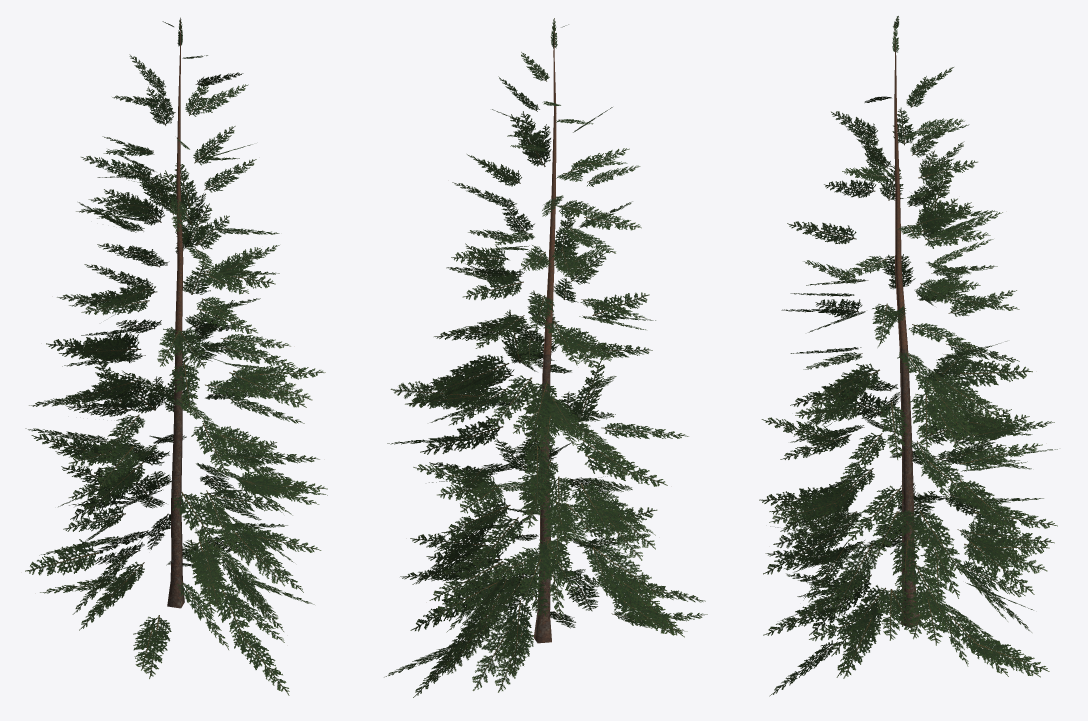
Rendered from spruce_c_LOD2.glb.
3 views of the same model, side by side, from view 1: azimuth 30°, elevation 25°; view 2: azimuth 150°, elevation 25°; view 3: azimuth 270°, elevation 25° (orthographic). The views are drawn at different scales.
Parts seen in each view (by area): view 1: Spruce_C_LOD2_Foliage, Spruce_C_LOD2_Bark; view 2: Spruce_C_LOD2_Foliage, Spruce_C_LOD2_Bark; view 3: Spruce_C_LOD2_Foliage, Spruce_C_LOD2_Bark.
Boxes of the visible parts, left/top/right/bottom form: Spruce_C_LOD2_Foliage: left=25, top=17, right=327, bottom=695; Spruce_C_LOD2_Bark: left=167, top=18, right=184, bottom=608; Spruce_C_LOD2_Foliage: left=384, top=18, right=707, bottom=697; Spruce_C_LOD2_Bark: left=533, top=18, right=556, bottom=643; Spruce_C_LOD2_Foliage: left=759, top=16, right=1057, bottom=696; Spruce_C_LOD2_Bark: left=894, top=24, right=920, bottom=627.
Bounding box in the file's own units: 14.51 × 30.67 × 13.78.
2 materials, 2 textured.
